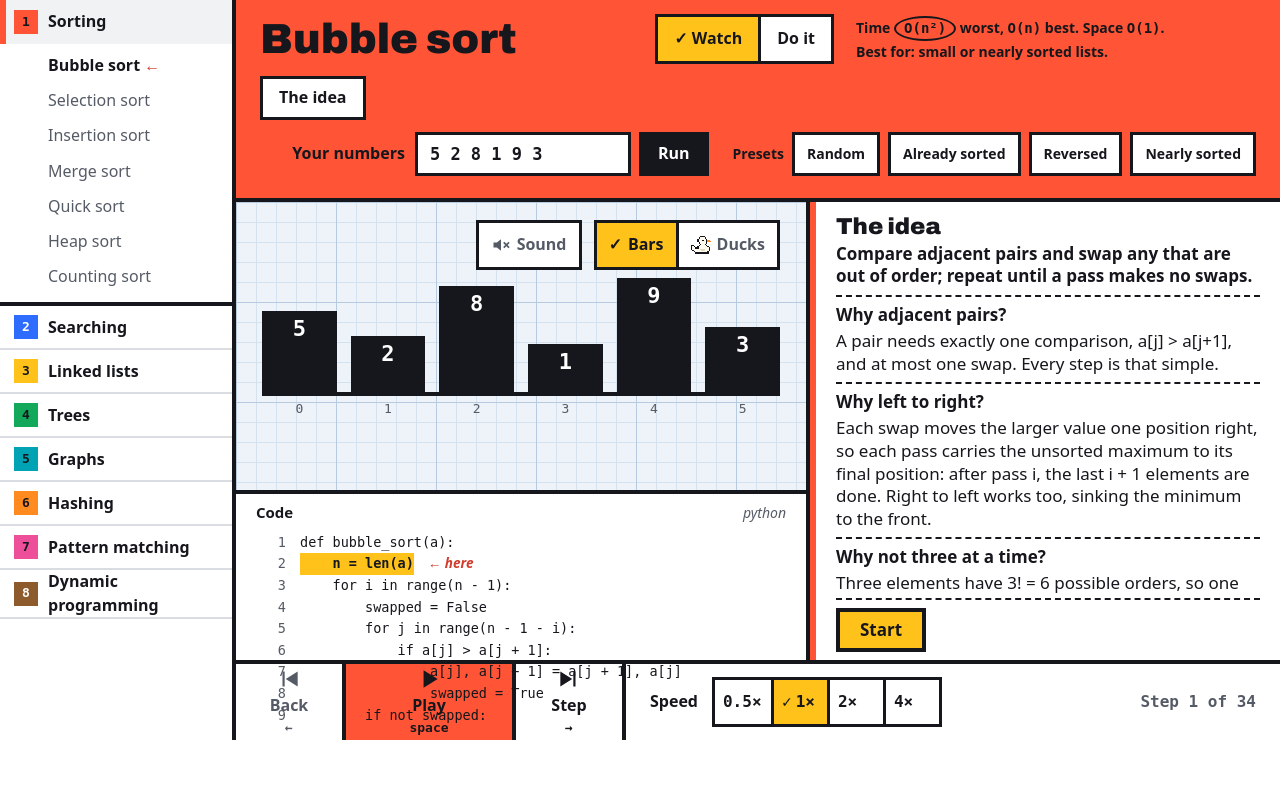
your numbers: mistakes › uses precise wording for Engineer
Replace the text in the field labelled "Your numbers" with "1 2 3 4 5 6 7 8 9 10 11 12 13" at x=523, y=154, box [415,132,631,176]
Then press Enter
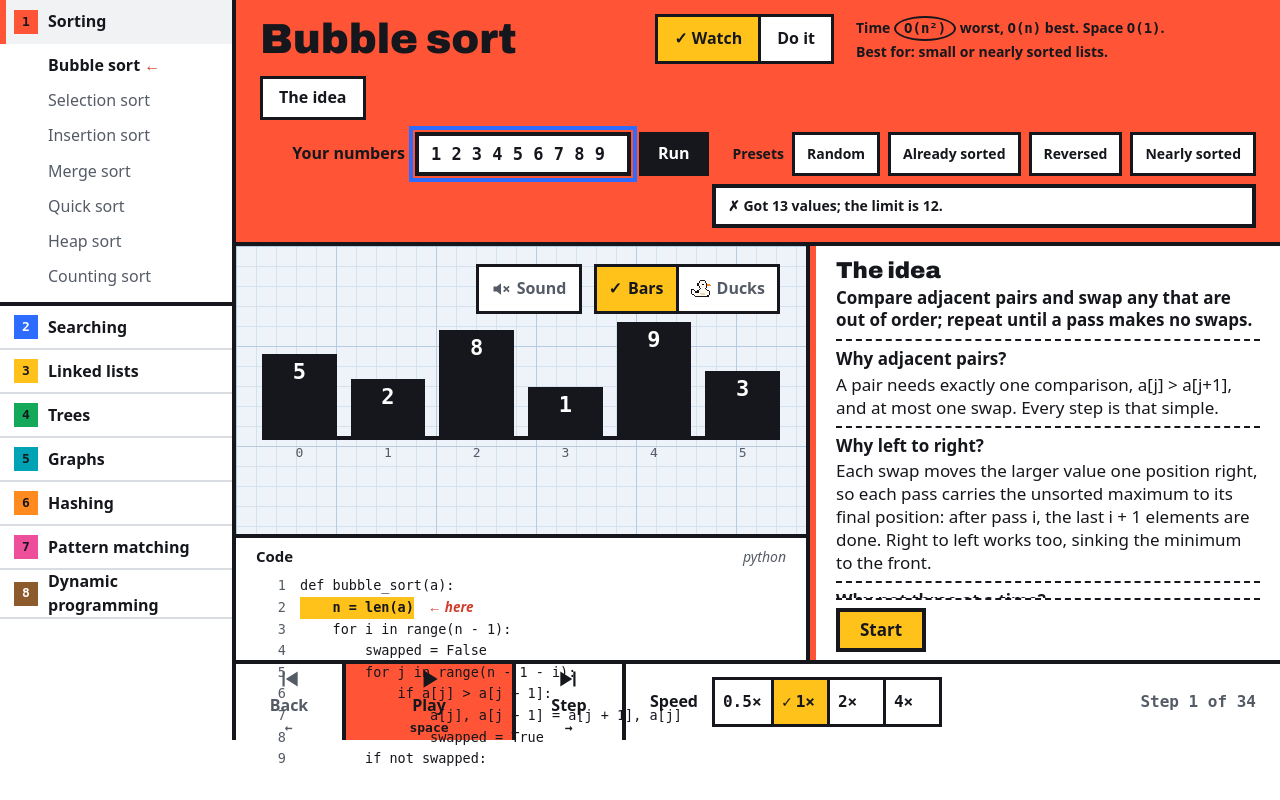
Check: the text with class "numbers-message" reads "Got 13 values; the limit is 12.", box [743,196,943,215]
